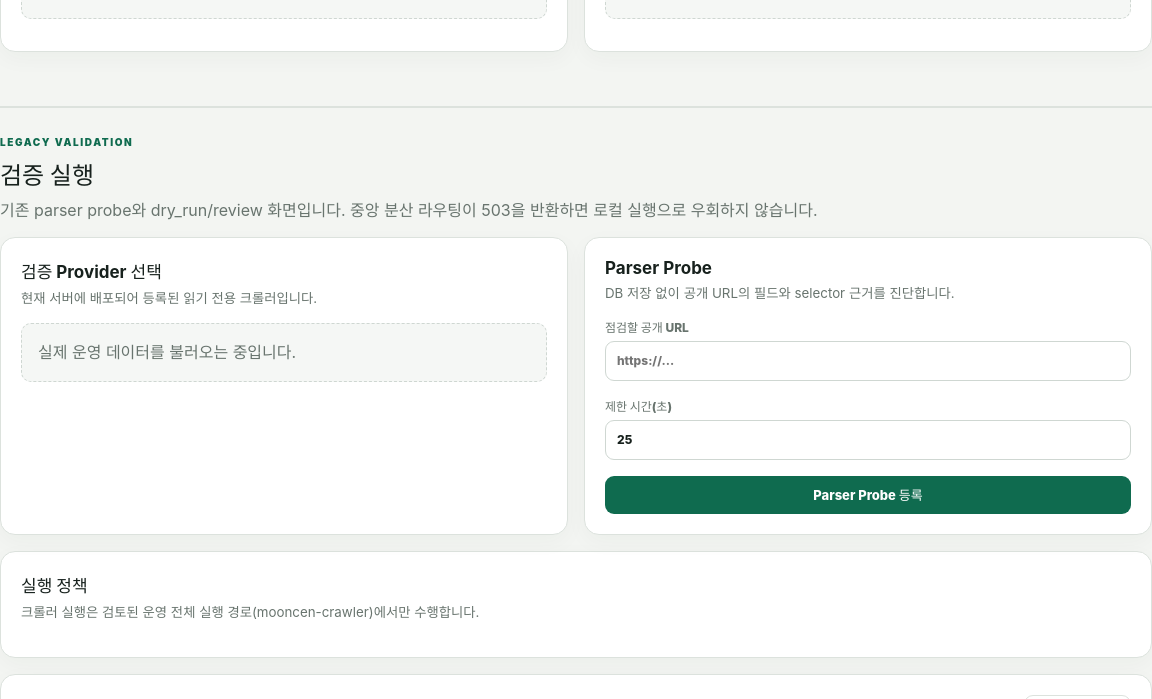
CrawlerStudioPage › shows an explicit central-routing block for a distributed parser probe 503
This screenshot has width=1152, height=699.
(page scrolled)
Type "https://example.test/courses" into the field labelled "점검할 공개 URL" at (868, 361), box x1=605 y1=341 x2=1131 y2=381
(page scrolled)
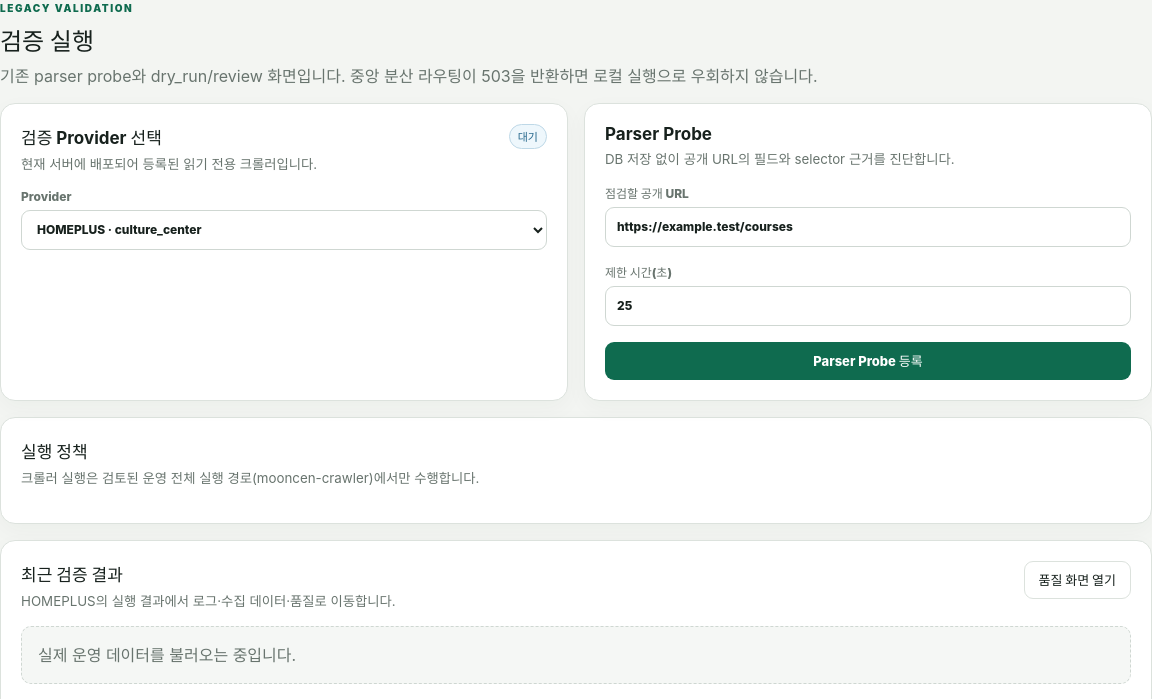
Click the button "Parser Probe 등록" at (868, 361), box x1=605 y1=342 x2=1131 y2=380
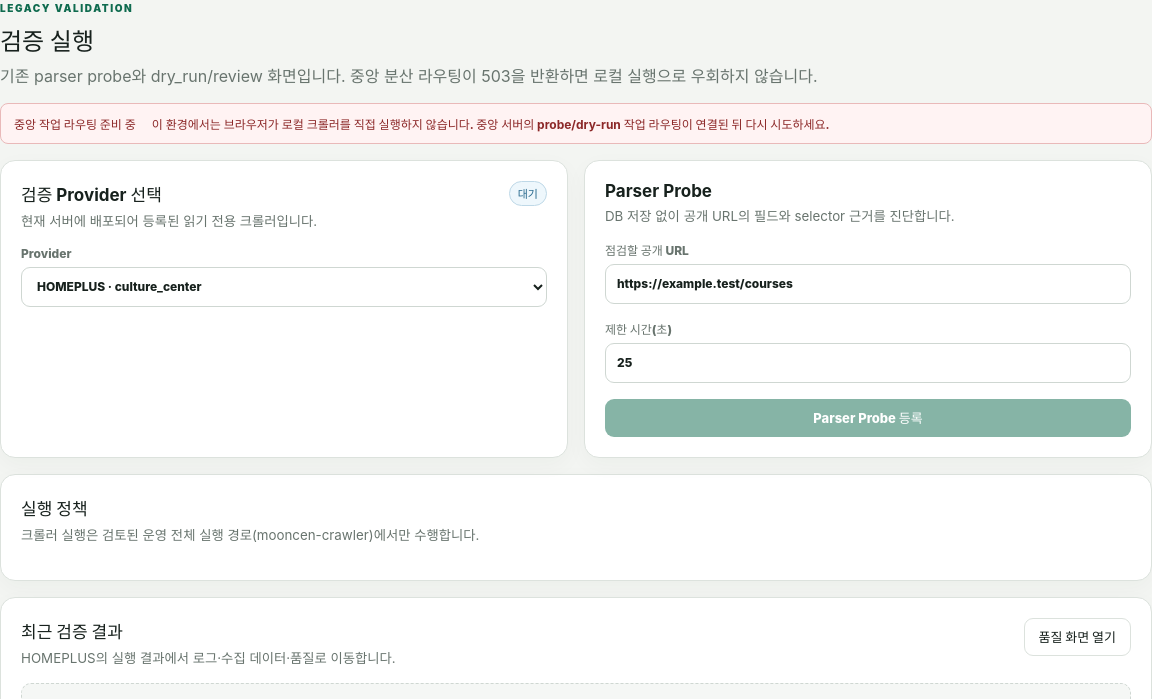
Result: the text "중앙 작업 라우팅 준비 중" is shown at x1=14 y1=115 x2=136 y2=132
Result: the text "로컬 크롤러를 직접 실행하지 않습니다" is shown at x1=152 y1=117 x2=830 y2=132
